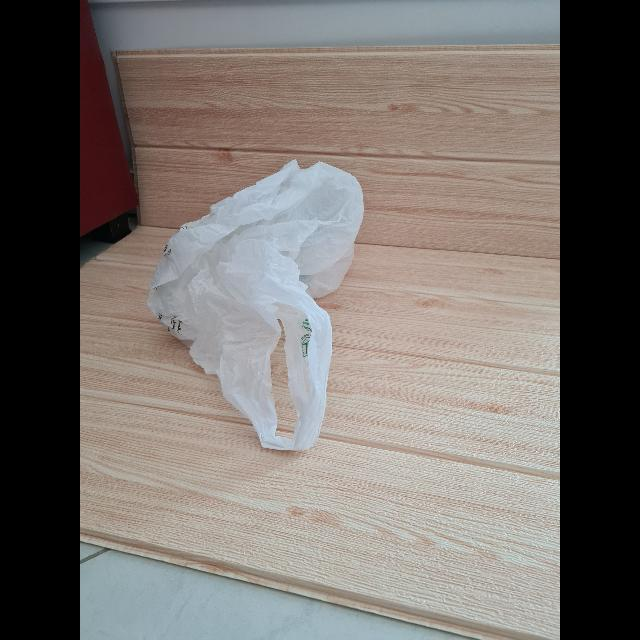plastic_bag: (137, 160, 370, 456)
